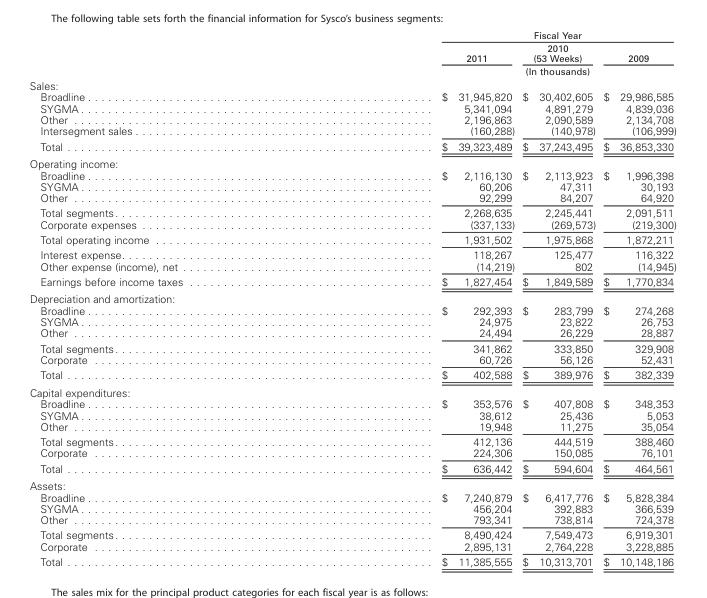table: (28, 28, 675, 567)
table column: (28, 28, 311, 567), (311, 28, 518, 567), (518, 28, 598, 567), (598, 28, 675, 567)
table column header: (28, 28, 675, 77)
table projected row header: (28, 382, 675, 397), (28, 154, 675, 168), (28, 289, 675, 303), (28, 476, 675, 490), (28, 77, 675, 90)
table row: (28, 41, 675, 63), (28, 137, 675, 154), (28, 459, 675, 476), (28, 273, 675, 289), (28, 366, 675, 382), (28, 231, 675, 246), (28, 382, 675, 397), (28, 63, 675, 77), (28, 154, 675, 168), (28, 204, 675, 218), (28, 259, 675, 273), (28, 289, 675, 303), (28, 339, 675, 353), (28, 476, 675, 490), (28, 526, 675, 540), (28, 553, 675, 567), (28, 28, 675, 41), (28, 77, 675, 90), (28, 124, 675, 137), (28, 191, 675, 204), (28, 218, 675, 231), (28, 246, 675, 259), (28, 326, 675, 339), (28, 353, 675, 366), (28, 420, 675, 433), (28, 433, 675, 446), (28, 446, 675, 459), (28, 513, 675, 526), (28, 540, 675, 553), (28, 101, 675, 113), (28, 168, 675, 180), (28, 303, 675, 315), (28, 408, 675, 420), (28, 490, 675, 502), (28, 90, 675, 101), (28, 113, 675, 124), (28, 180, 675, 191), (28, 315, 675, 326), (28, 397, 675, 408), (28, 502, 675, 513)
table spanning cell: (311, 63, 675, 77), (311, 28, 675, 41)
